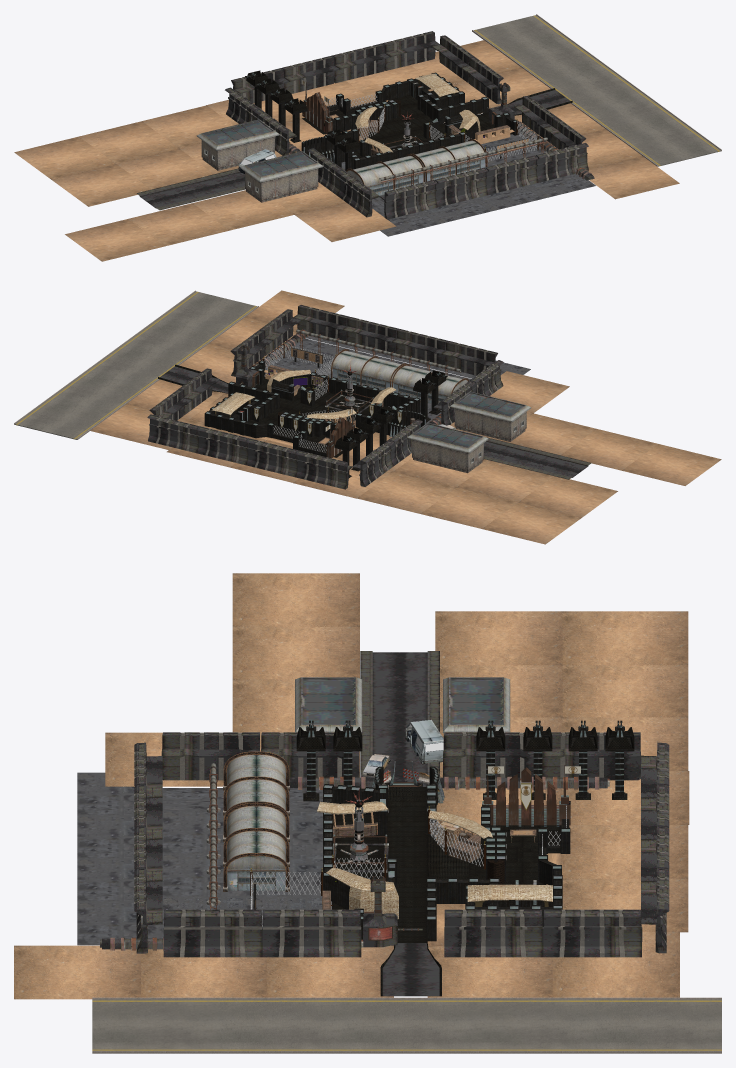
File: HUBTextured.fbx
3 renders of one model, top to bottom at view 1: azimuth 30°, elevation 25°; view 2: azimuth 150°, elevation 25°; view 3: azimuth 270°, elevation 25°, orthographic. The views are drawn at different scales.
Visible parts, largest first — view 1: OuterWall.005, OuterWall.002, Building_3, Building_3__1_, Road1__2_, Road1__3_, Road1__4_, Ground1__14_, Ground1__3_, Road1, Ground1__7_, Road1__1_ (+45 smaller); view 2: OuterWall.002, OuterWall.005, Building_3, Building_3__1_, Road1__3_, Road1__2_, Road1__4_, Ground1__7_, Road1, Ground1__6_, Ground1__13_, Ground1__14_ (+39 smaller); view 3: OuterWall.001, OuterWall, Road1__2_, Road1__3_, Road1, Road1__1_, Road1__4_, Ground1__14_, Ground1__6_, Ground1__7_, Ground1__3_, Ground1__15_ (+61 smaller).
Boxes of the visible parts, x1,y1,x2,y2 form: OuterWall.005: [380, 143, 588, 219]; OuterWall.002: [231, 31, 439, 103]; Building_3: [240, 151, 323, 202]; Building_3__1_: [196, 119, 279, 170]; Road1__2_: [619, 122, 721, 166]; Road1__3_: [472, 14, 573, 57]; Road1__4_: [509, 41, 610, 84]; Ground1__14_: [14, 137, 115, 179]; Ground1__3_: [128, 203, 229, 246]; Road1: [546, 69, 647, 112]; Ground1__7_: [65, 219, 166, 261]; Road1__1_: [583, 96, 683, 138]; OuterWall.002: [147, 414, 352, 489]; OuterWall.005: [293, 305, 497, 375]; Building_3: [449, 391, 531, 441]; Building_3__1_: [407, 423, 488, 473]; Road1__3_: [14, 396, 114, 439]; Road1__2_: [159, 290, 258, 333]; Road1__4_: [51, 370, 150, 412]; Ground1__7_: [622, 444, 721, 485]; Road1: [87, 343, 186, 386]; Ground1__6_: [518, 476, 617, 517]; Ground1__13_: [357, 472, 456, 513]; Ground1__14_: [482, 502, 581, 544]; OuterWall.001: [444, 909, 642, 957]; OuterWall: [163, 909, 361, 957]; Road1__2_: [92, 997, 219, 1053]; Road1__3_: [594, 997, 721, 1053]; Road1: [341, 997, 468, 1053]; Road1__1_: [219, 997, 346, 1053]; Road1__4_: [469, 997, 596, 1053]; Ground1__14_: [561, 611, 688, 665]; Ground1__6_: [435, 611, 562, 665]; Ground1__7_: [232, 573, 359, 626]; Ground1__3_: [232, 625, 359, 679]; Ground1__15_: [561, 663, 688, 717].
Bounding box in the file's own units: 143 × 9.93 × 88.99.
Materials: 32 (24 with a texture image).
